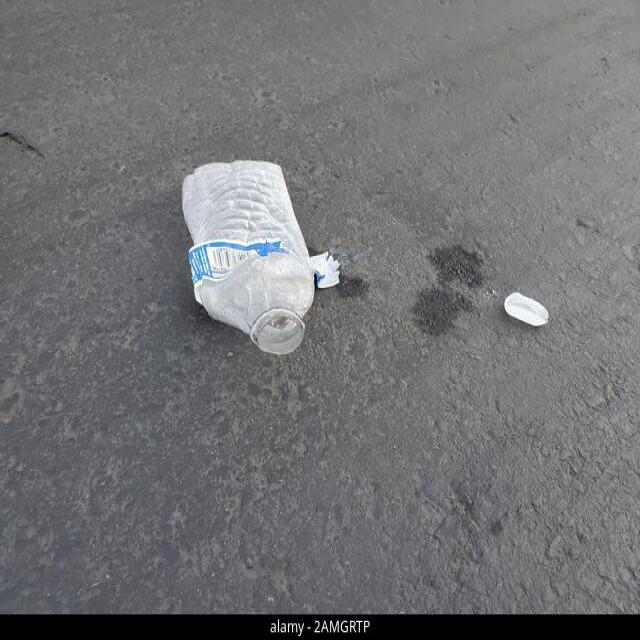plastic: (174, 152, 324, 358)
